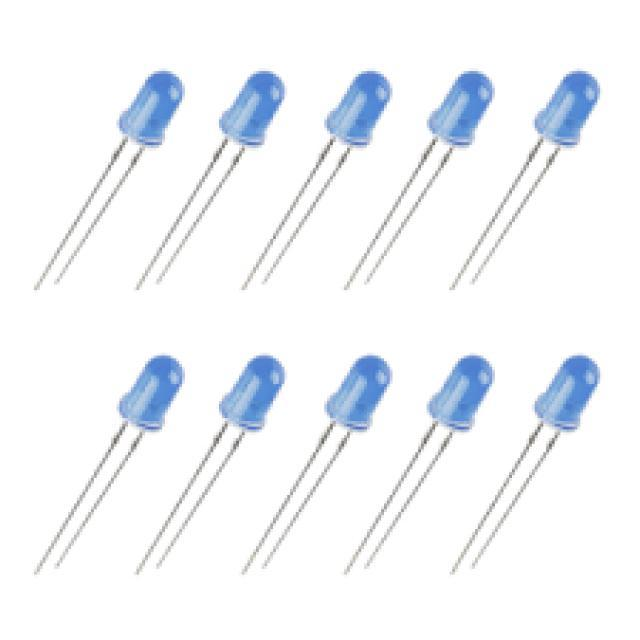Led: (39, 355, 184, 571), (182, 71, 285, 211), (94, 74, 182, 224), (312, 71, 391, 171), (428, 72, 492, 149), (535, 356, 599, 431), (535, 71, 599, 146), (220, 355, 284, 430), (328, 355, 391, 430), (429, 356, 492, 429)
